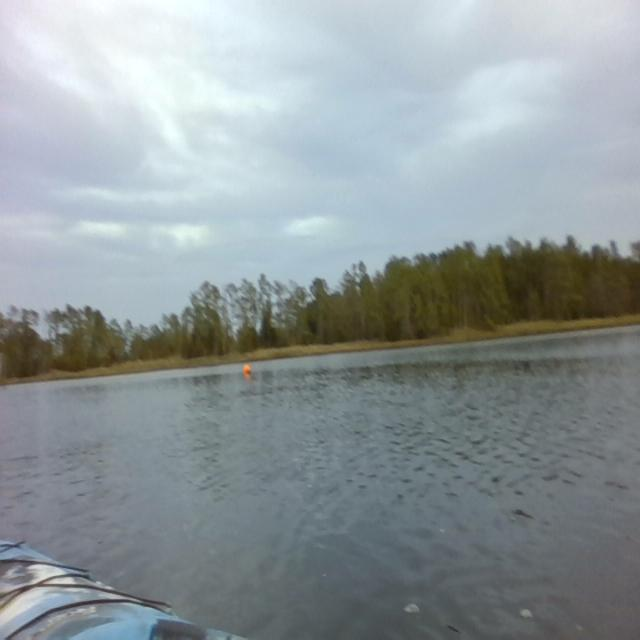Buoy: (242, 360, 254, 380)
